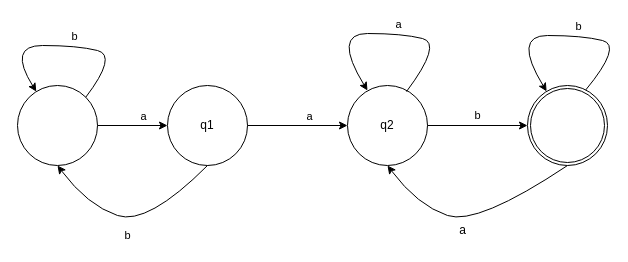
This 628x262 diagram has some shape labels left out. The centre of each missing label's shape, as x and y in pixels:
"q0" goes at (57,125).
"q3" goes at (567,125).
